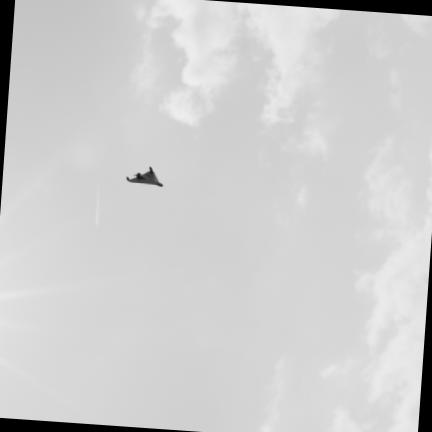Shahed: (126, 166, 162, 184)
